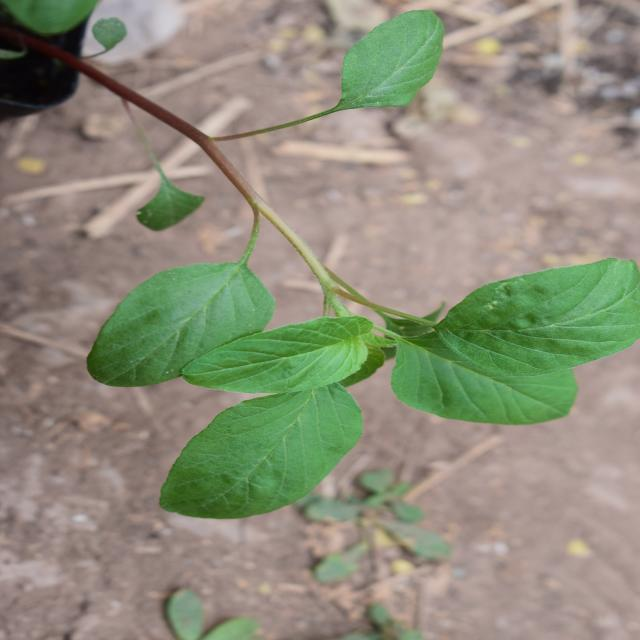pigweed: (176, 9, 522, 548)
